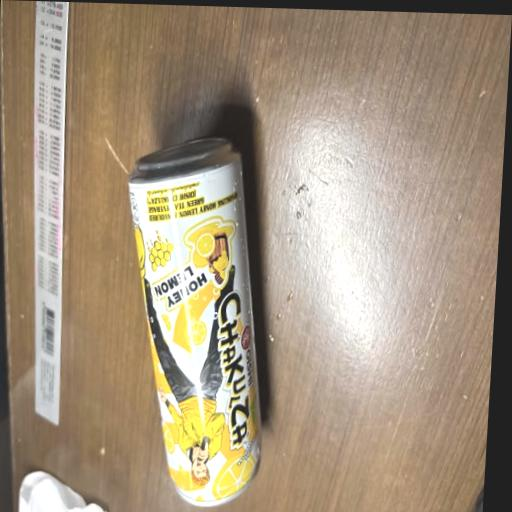bottle: (71, 91, 320, 512)
